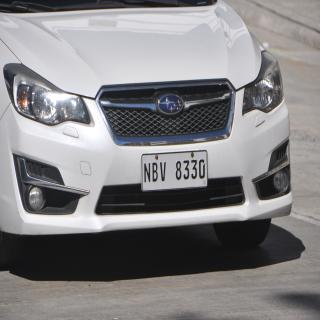license: (143, 152, 209, 192)
